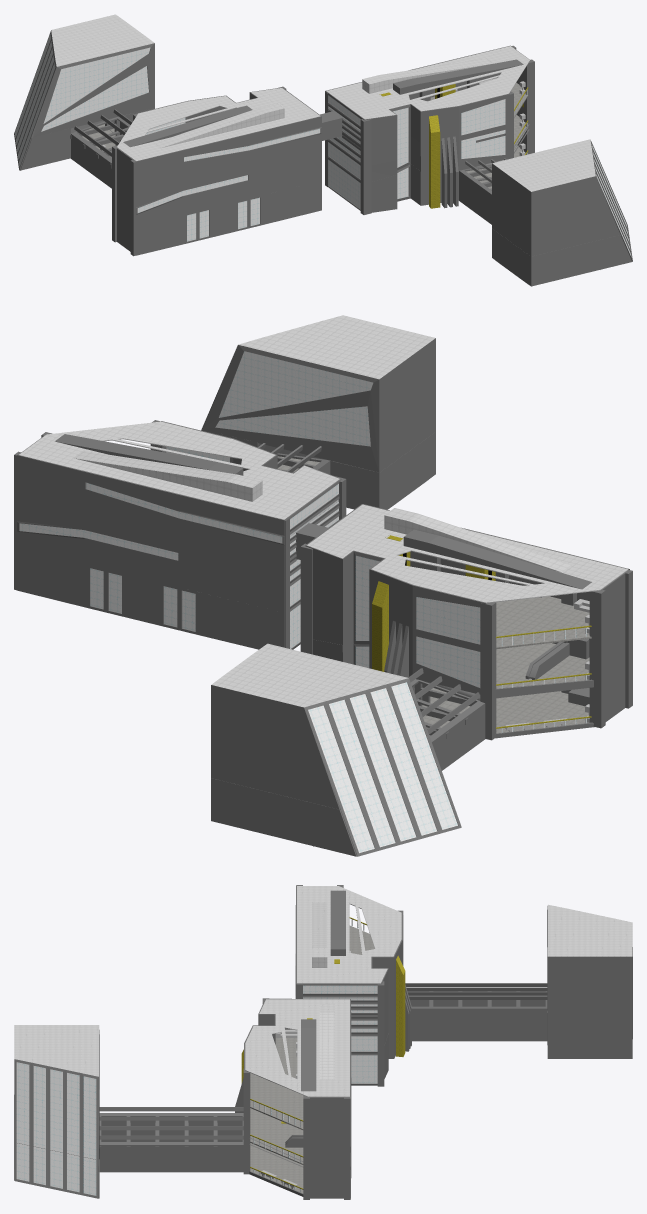
Rendered from level3.FBX.
The picture shows the model from 3 angles, top to bottom: view 1: azimuth 30°, elevation 25°; view 2: azimuth 150°, elevation 25°; view 3: azimuth 270°, elevation 25°; orthographic projection. The views are drawn at different scales.
Visible parts, largest first — view 1: walls_2, edge_01, walls_1, edge_00, windows_01, celing_l004, celing_l005, windows_00, edgepillars_00, Pillars_optimised_00, wall_element, edgepillars_01 (+1 smaller); view 2: walls_1, edge_00, edge_01, windows_01, windows_00, celing_l005, celing_l004, walls_2, edgepillars_01, 3rd_floor_l3, floor001, wall_element (+4 smaller); view 3: edge_00, edge_01, walls_2, walls_1, celing_l005, celing_l004, windows_00, wall_element2, windows_01, edgepillars_00, 3rd_floor_l004, 2nd_floor_l004 (+5 smaller).
Part boxes in pixels (x1=…): walls_2: x1=71, y1=87, x2=321, y2=255; edge_01: x1=465, y1=139, x2=632, y2=286; walls_1: x1=325, y1=45, x2=529, y2=224; edge_00: x1=14, y1=14, x2=154, y2=170; windows_01: x1=15, y1=34, x2=320, y2=241; celing_l004: x1=117, y1=88, x2=320, y2=161; celing_l005: x1=326, y1=46, x2=529, y2=119; windows_00: x1=328, y1=95, x2=631, y2=256; edgepillars_00: x1=325, y1=45, x2=534, y2=214; Pillars_optimised_00: x1=379, y1=84, x2=523, y2=208; wall_element: x1=116, y1=147, x2=133, y2=251; edgepillars_01: x1=109, y1=86, x2=286, y2=256; walls_1: x1=17, y1=421, x2=341, y2=649; edge_00: x1=211, y1=643, x2=480, y2=856; edge_01: x1=201, y1=315, x2=435, y2=509; windows_01: x1=308, y1=555, x2=480, y2=853; windows_00: x1=19, y1=351, x2=373, y2=648; celing_l005: x1=19, y1=421, x2=339, y2=519; celing_l004: x1=307, y1=504, x2=628, y2=603; walls_2: x1=305, y1=504, x2=629, y2=770; edgepillars_01: x1=300, y1=543, x2=632, y2=740; 3rd_floor_l3: x1=496, y1=596, x2=591, y2=649; floor001: x1=422, y1=688, x2=588, y2=733; wall_element: x1=600, y1=572, x2=625, y2=721; edge_00: x1=405, y1=904, x2=632, y2=1058; edge_01: x1=14, y1=1025, x2=243, y2=1198; walls_2: x1=295, y1=886, x2=547, y2=1085; walls_1: x1=99, y1=998, x2=351, y2=1198; celing_l005: x1=245, y1=999, x2=349, y2=1096; celing_l004: x1=297, y1=886, x2=401, y2=983; windows_00: x1=16, y1=1062, x2=96, y2=1195; wall_element2: x1=308, y1=1097, x2=345, y2=1198; windows_01: x1=303, y1=985, x2=377, y2=1083; edgepillars_00: x1=243, y1=998, x2=350, y2=1199; 3rd_floor_l004: x1=250, y1=1034, x2=303, y2=1129; 2nd_floor_l004: x1=17, y1=1108, x2=303, y2=1164.
Size of the model in its own units: 61.34 by 15.27 by 75.08.
